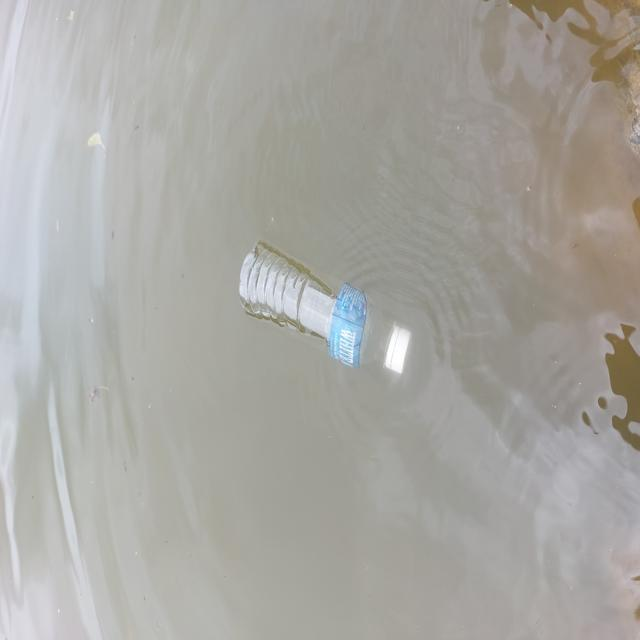waterbottle: (233, 233, 418, 392)
